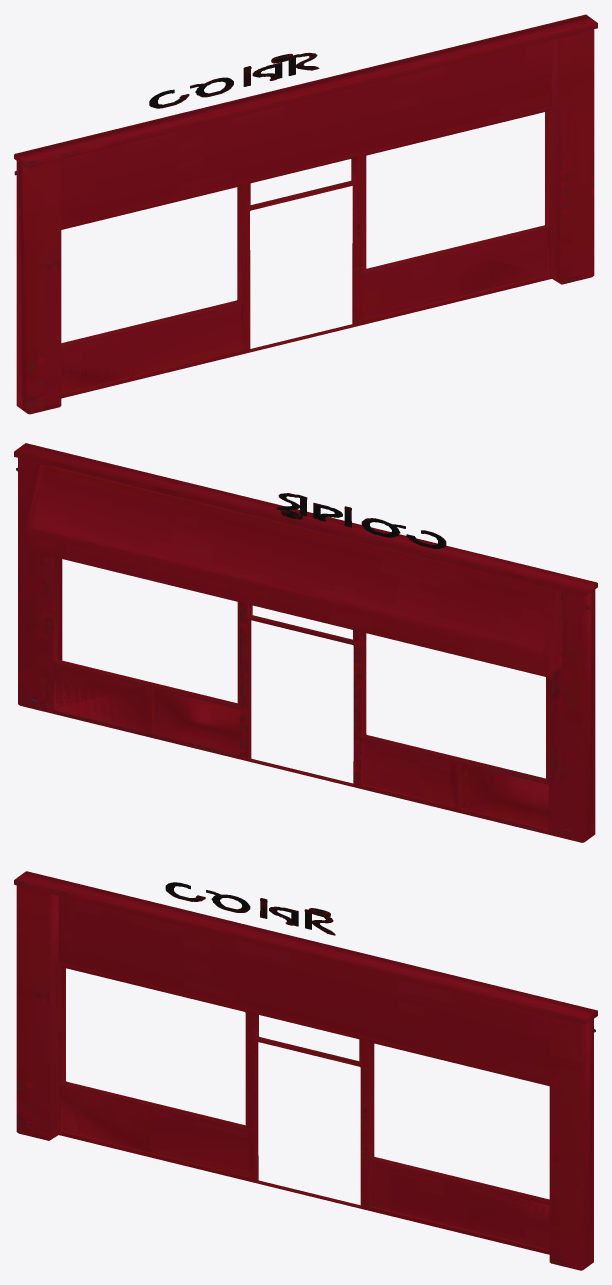
The model's file is street-shop-diner.glb.
3 views of the same model, one above another, from view 1: azimuth 30°, elevation 25°; view 2: azimuth 150°, elevation 25°; view 3: azimuth 330°, elevation 25° (orthographic).
Parts seen in each view (by area): view 1: tripo_node_930b7142-84bd-4907-904c-4c52a7016def; view 2: tripo_node_930b7142-84bd-4907-904c-4c52a7016def; view 3: tripo_node_930b7142-84bd-4907-904c-4c52a7016def.
Boxes of the visible parts, x1,y1,x2,y2 form: tripo_node_930b7142-84bd-4907-904c-4c52a7016def: (14,14,597,414); tripo_node_930b7142-84bd-4907-904c-4c52a7016def: (14,443,597,842); tripo_node_930b7142-84bd-4907-904c-4c52a7016def: (14,871,597,1270).
Bounding box in the file's own units: 6.4 × 3 × 0.5.
1 material, 1 textured.
